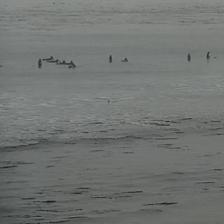surfer: (43, 56, 57, 61), (68, 60, 76, 67), (56, 60, 67, 65), (38, 58, 42, 68), (52, 58, 60, 63), (122, 57, 129, 62), (187, 53, 191, 61), (206, 51, 210, 59), (109, 55, 112, 62)
